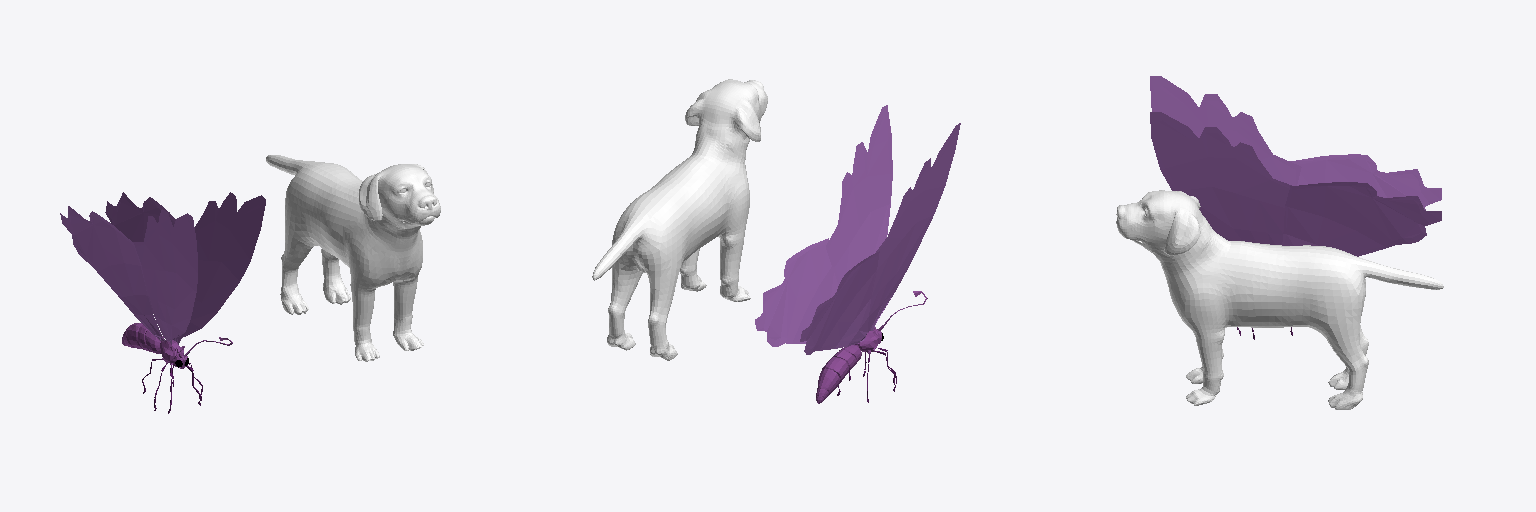
The model's file is adddog.obj.
3 renders of one model, left to right at view 1: azimuth 30°, elevation 25°; view 2: azimuth 150°, elevation 25°; view 3: azimuth 270°, elevation 25°, orthographic.
Visible parts, largest first — view 1: Dog_body, butterfly_wingfront.l_butterfly_wingfront, butterfly_wingfront.r_butterfly_wingfront, butterfly_wingback.r_butterfly_wingback, butterfly_body, butterfly_wingback.l_butterfly_wingback; view 2: Dog_body, butterfly_wingfront.l_butterfly_wingfront, butterfly_wingfront.r_butterfly_wingfront, butterfly_wingback.l_butterfly_wingback, butterfly_wingback.r_butterfly_wingback, butterfly_body, butterfly_wingfro_butterfly_wingfro.002; view 3: Dog_body, butterfly_wingfront.l_butterfly_wingfront, butterfly_wingback.l_butterfly_wingback, butterfly_wingfront.r_butterfly_wingfront, butterfly_wingback.r_butterfly_wingback, butterfly_wingfro.001_butterfly_wingfro.003.
Part boxes in pixels (x1,y1,x2,y2): Dog_body: (266, 155, 440, 361); butterfly_wingfront.l_butterfly_wingfront: (174, 192, 265, 344); butterfly_wingfront.r_butterfly_wingfront: (133, 209, 197, 344); butterfly_wingback.r_butterfly_wingback: (60, 206, 165, 341); butterfly_body: (122, 323, 232, 413); butterfly_wingback.l_butterfly_wingback: (105, 192, 175, 241); Dog_body: (592, 79, 767, 360); butterfly_wingfront.l_butterfly_wingfront: (826, 105, 892, 283); butterfly_wingfront.r_butterfly_wingfront: (868, 123, 960, 331); butterfly_wingback.l_butterfly_wingback: (755, 238, 838, 346); butterfly_wingback.r_butterfly_wingback: (800, 251, 879, 354); butterfly_body: (816, 291, 927, 403); butterfly_wingfro_butterfly_wingfro.002: (829, 225, 848, 283); Dog_body: (1116, 190, 1443, 409); butterfly_wingfront.l_butterfly_wingfront: (1150, 112, 1291, 244); butterfly_wingback.l_butterfly_wingback: (1282, 182, 1441, 256); butterfly_wingfront.r_butterfly_wingfront: (1150, 76, 1301, 185); butterfly_wingback.r_butterfly_wingback: (1290, 154, 1441, 209); butterfly_wingfro.001_butterfly_wingfro.003: (1266, 156, 1295, 185).
Bounding box in the file's own units: 0.3672 × 0.3231 × 0.4061.